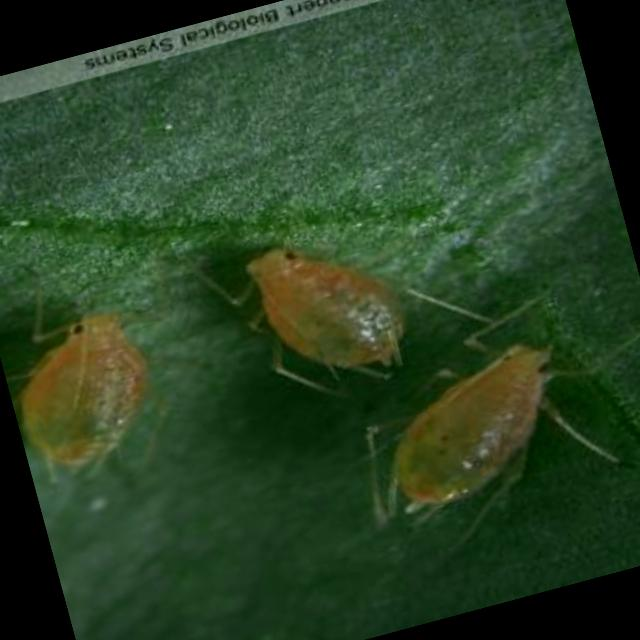Green peach aphid: (321, 312, 632, 564), (176, 165, 440, 428), (0, 232, 199, 520)
